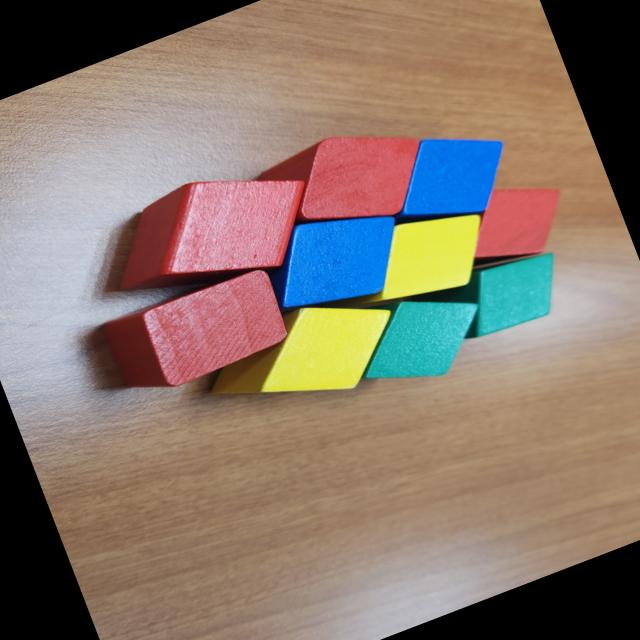blue: (252, 188, 418, 329), (368, 112, 524, 244)
green: (337, 268, 499, 405), (441, 239, 573, 346)
red: (91, 144, 331, 326), (251, 106, 442, 256), (100, 262, 294, 404), (454, 166, 580, 276)
yellow: (193, 274, 419, 438), (328, 193, 506, 327)
